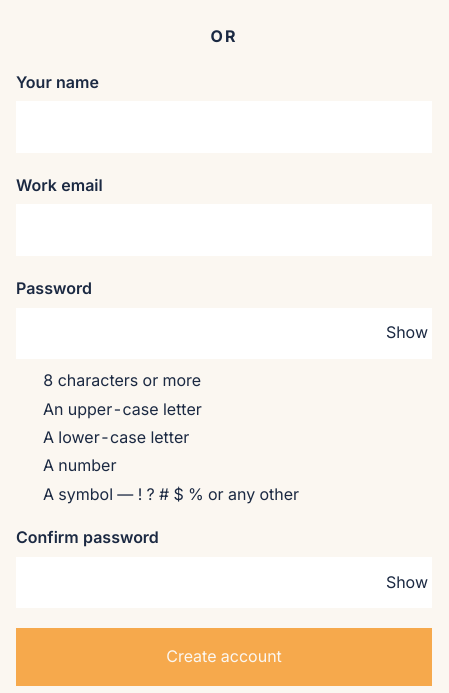
when the mismatch is allowed to speak › says so once focus leaves the second field
This screenshot has width=449, height=693.
(page scrolled)
Type "Northeast#26" into the password field labelled "Password" at (224, 333), box [16,308,432,359]
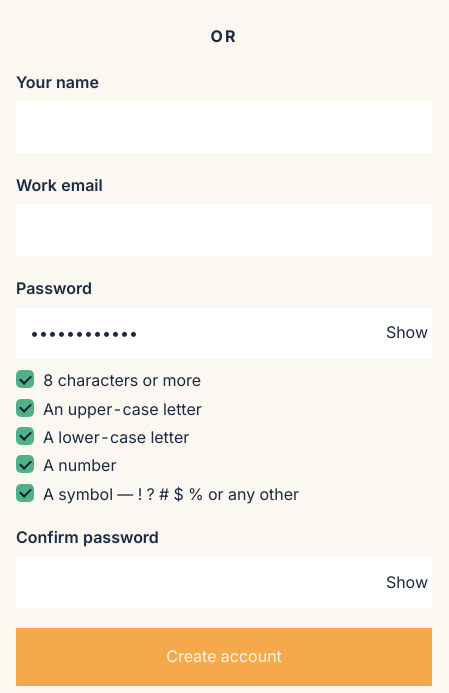
Type "Northeast#25" into the password field labelled "Confirm password" at (224, 582), box [16,557,432,608]
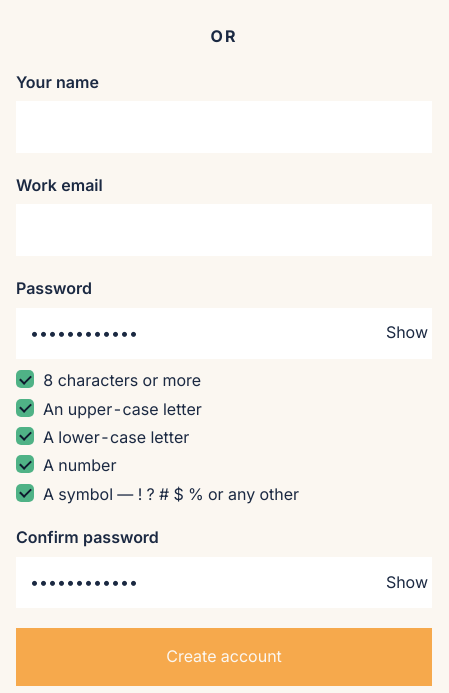
expect the text "do not match" is not shown: met
Leave the password field labelled "Confirm password", box [16,557,432,608]
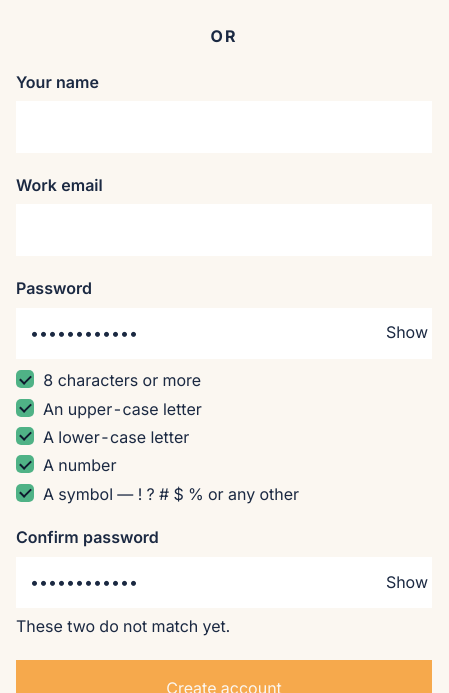
expect the text "These two do not match yet." is shown: met, box [16,616,230,636]
